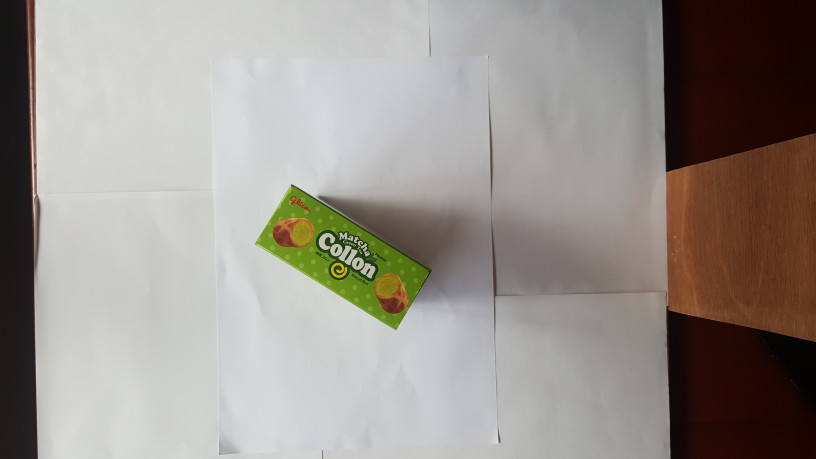collon-matcha: (251, 185, 432, 330)
